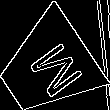M_SW: (14, 34, 79, 101)
